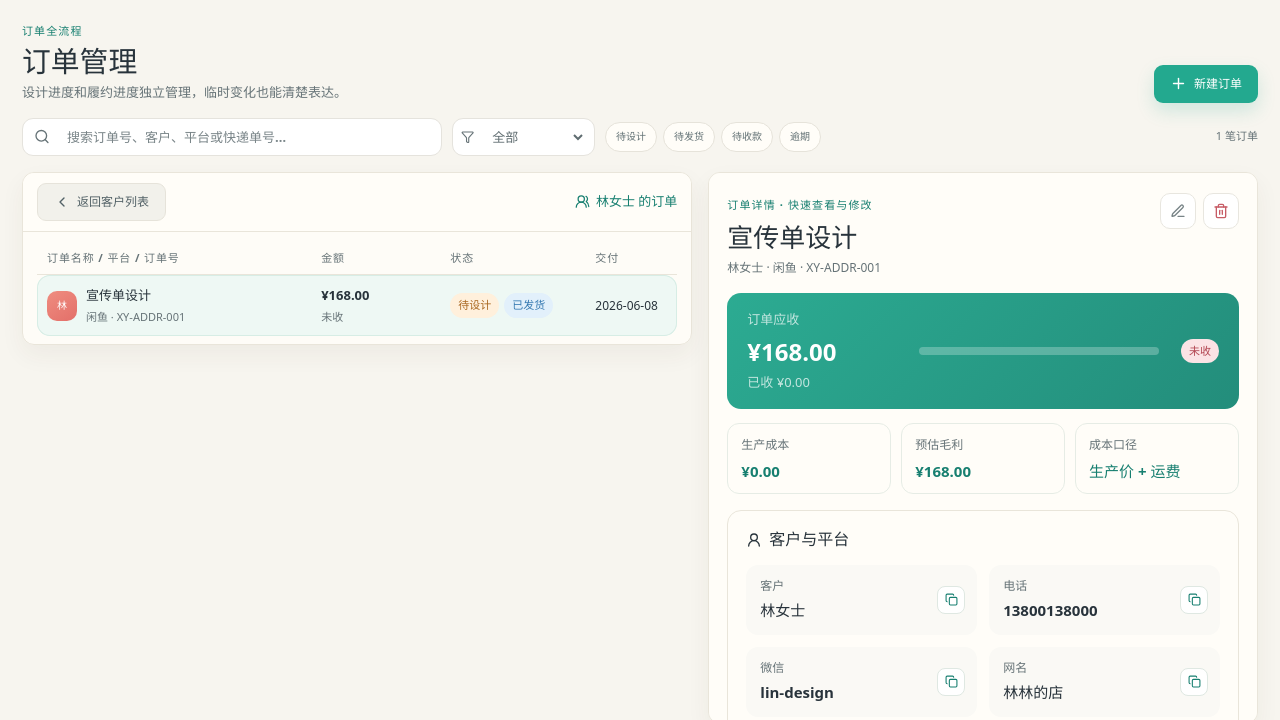
OrdersPage › opens order actions from the right-click menu
Step 1. Right-click the button "林 宣传单设计 闲鱼 · XY-ADDR-001 ¥168.00 未收 待设计 已发货 2026-06-08" → (357, 306), box [37, 275, 677, 336]
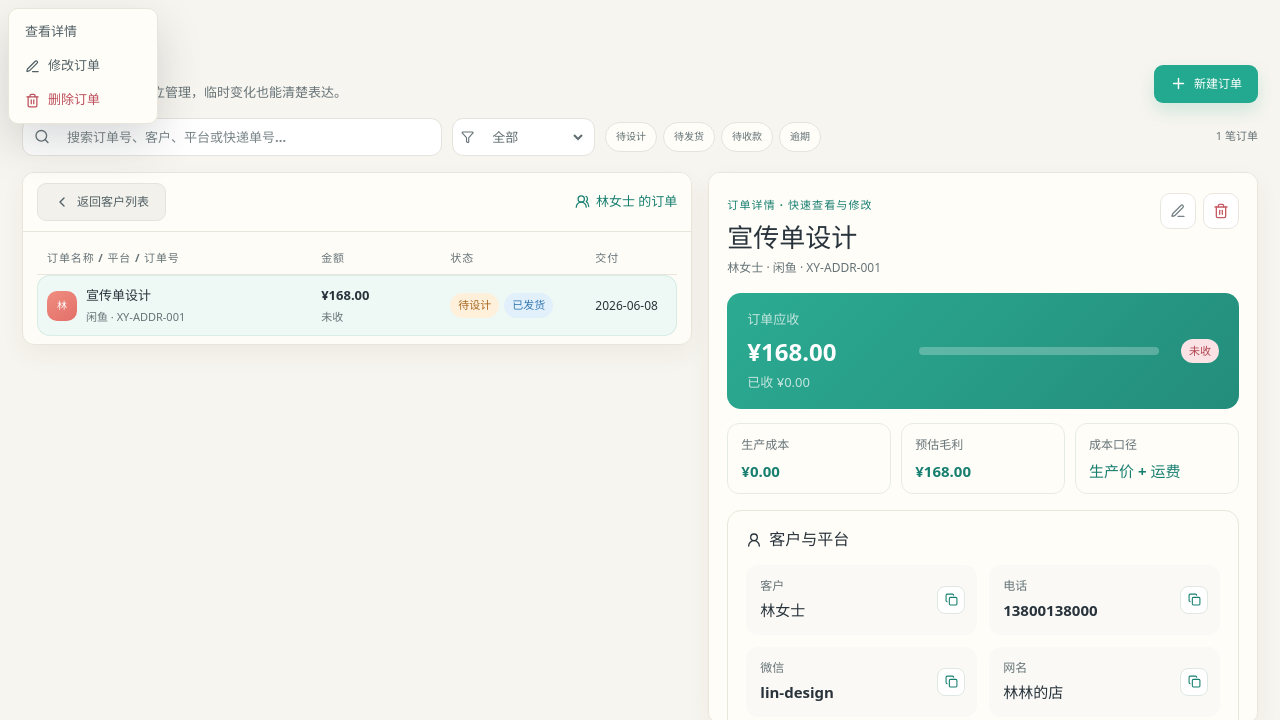
Expected: the menu item "修改订单" is shown, [15, 49, 151, 83]
Expected: the menu item "删除订单" is shown, [15, 83, 151, 117]
